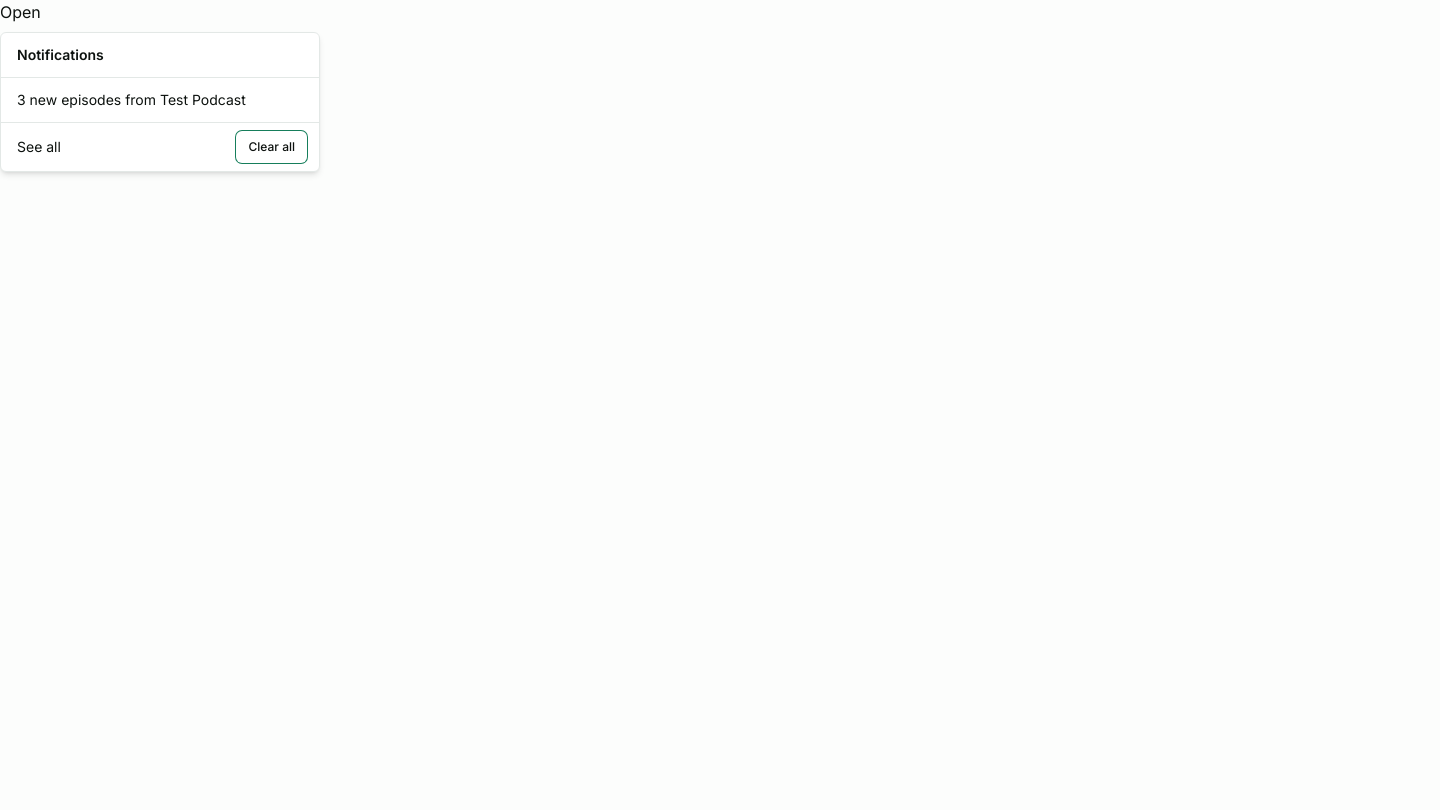
Test: NotificationPopover › (k) Clear all empties the displayed list and hides the button
The width and height of the screenshot is (1440, 810).
Expected: the link "3 new episodes from Test Podcast" is shown, [17, 91, 246, 108]
Click the button "Clear all" at (272, 147), box [236, 131, 307, 163]
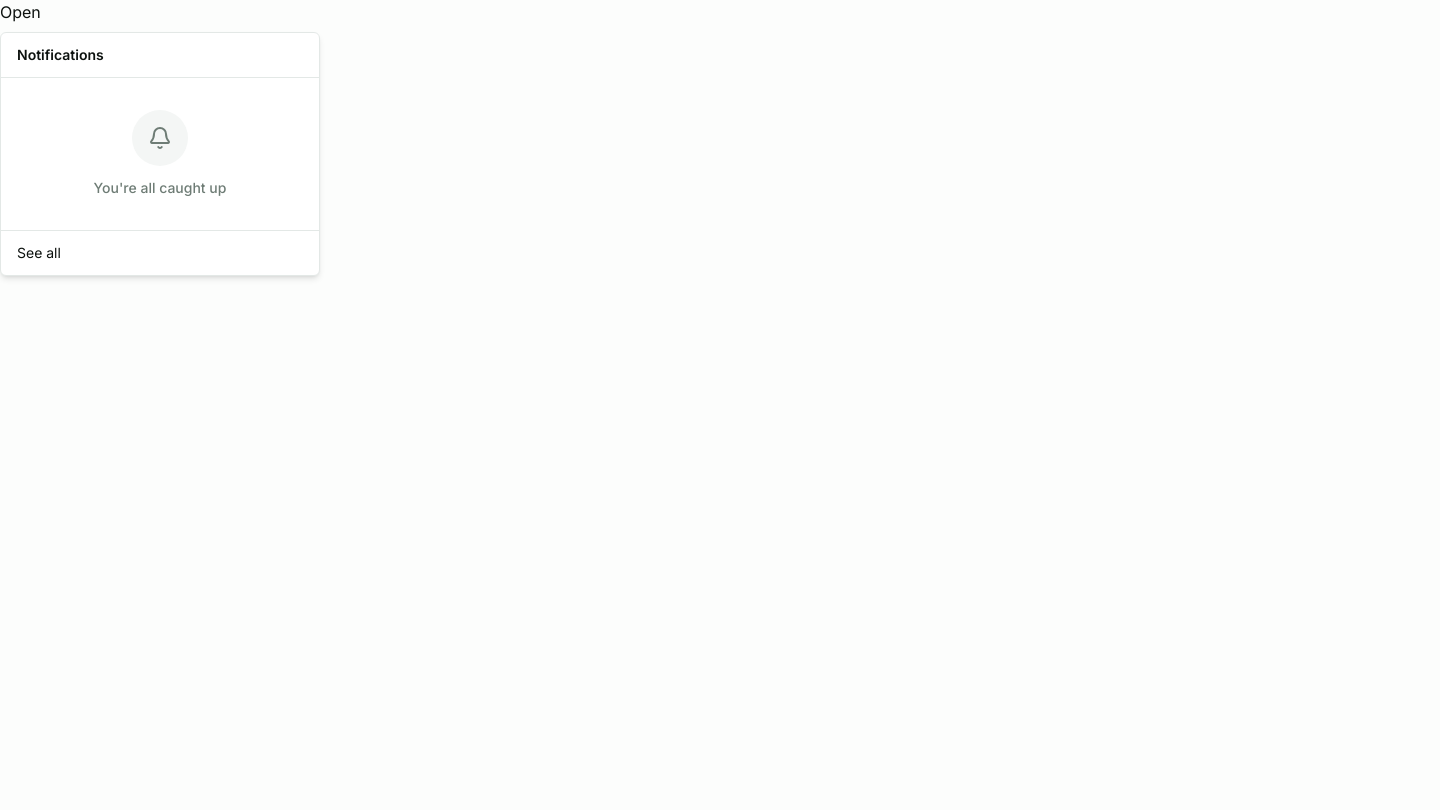
Expected: the link "from Test Podcast" is gone
Expected: the text "You're all caught up" is shown, [94, 178, 226, 198]
Expected: the button "Clear all" is gone
